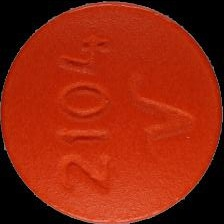35356-759: (0, 0, 224, 224)
